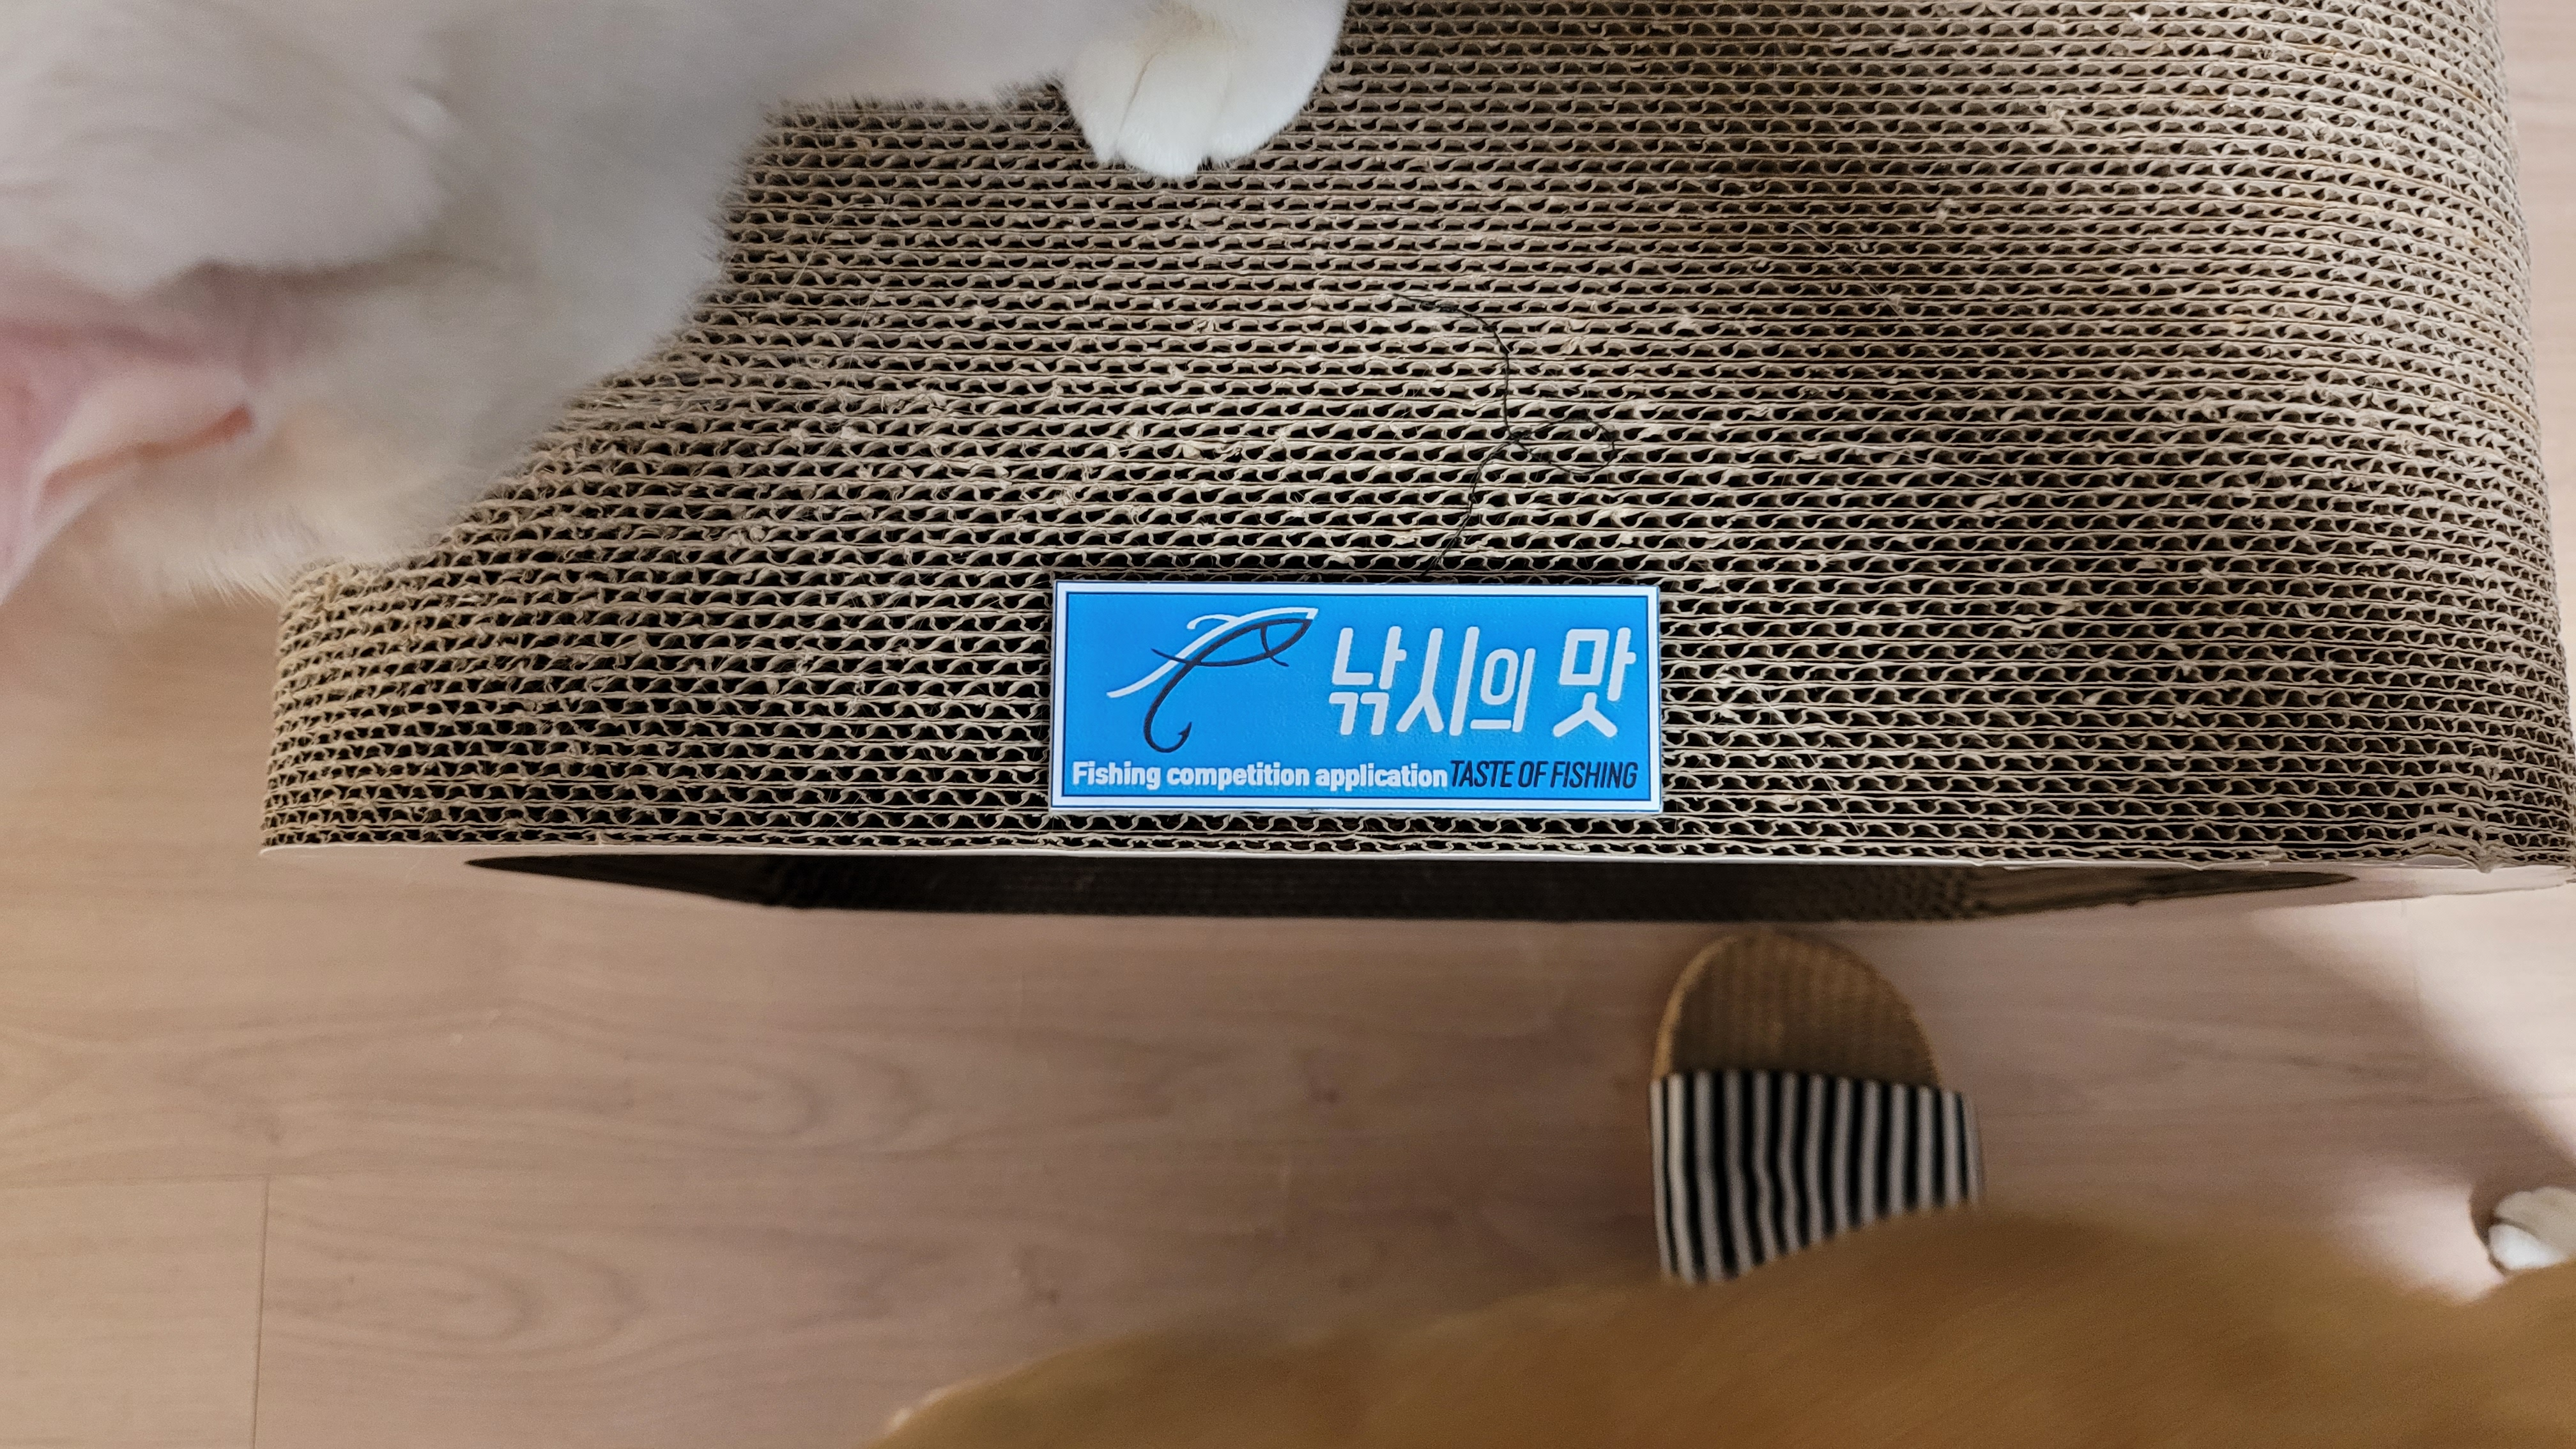tag: (1047, 580, 1668, 814)
